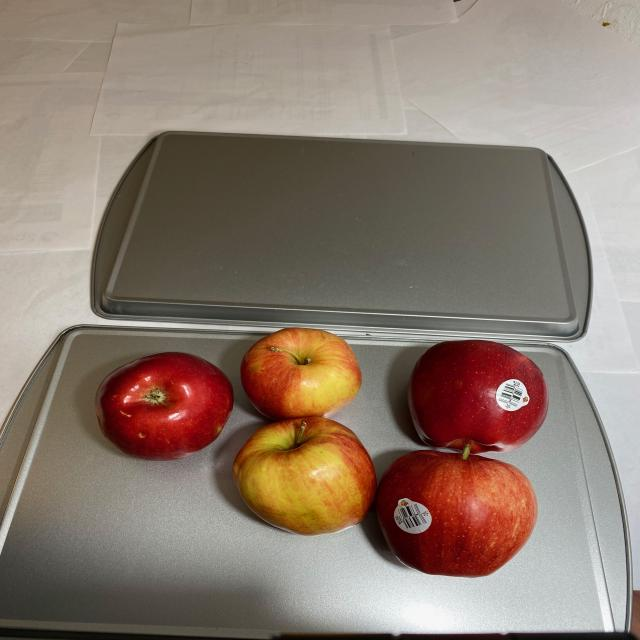apple: (91, 329, 553, 579)
